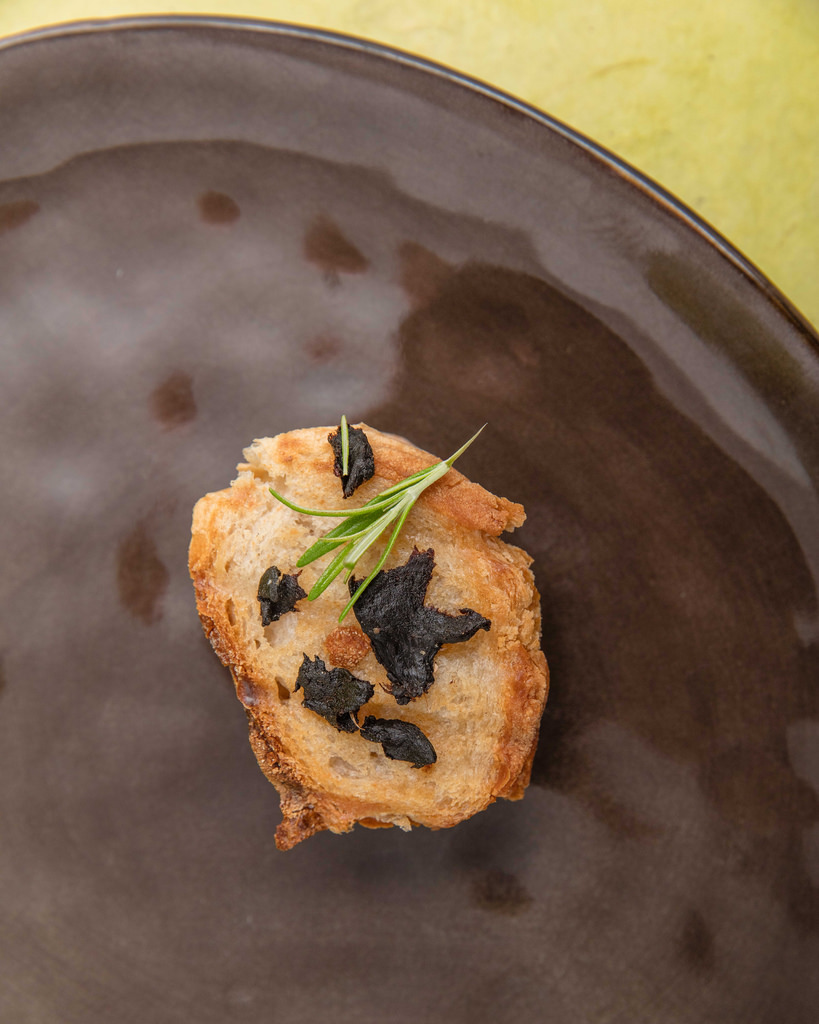slice of bread: (186, 426, 559, 843)
